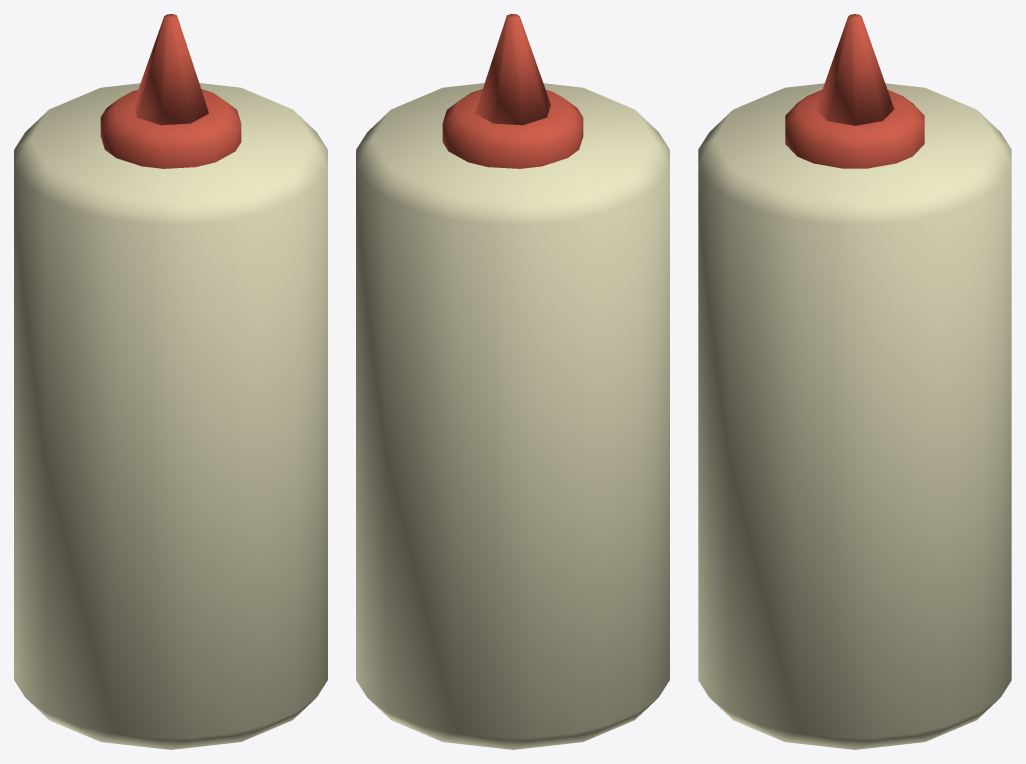
Rendered from Bottlething.fbx.
3 views of the same model, side by side, from view 1: azimuth 30°, elevation 25°; view 2: azimuth 150°, elevation 25°; view 3: azimuth 270°, elevation 25° (orthographic).
Parts seen in each view (by area): view 1: Bottlething; view 2: Bottlething; view 3: Bottlething.
Part boxes in pixels (left/top/right/bottom): Bottlething: left=14, top=14, right=327, bottom=749; Bottlething: left=356, top=14, right=669, bottom=749; Bottlething: left=698, top=14, right=1011, bottom=749.
Size of the model in its own units: 6.34 by 15.02 by 6.34.
